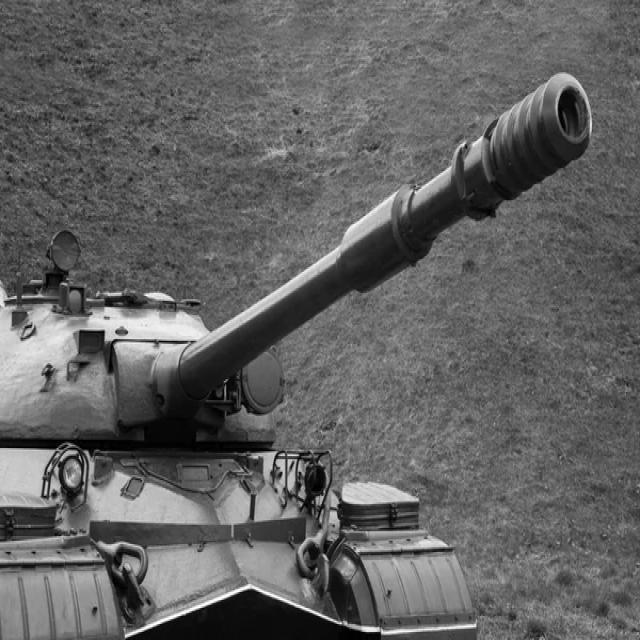Tank: (0, 68, 611, 640)
